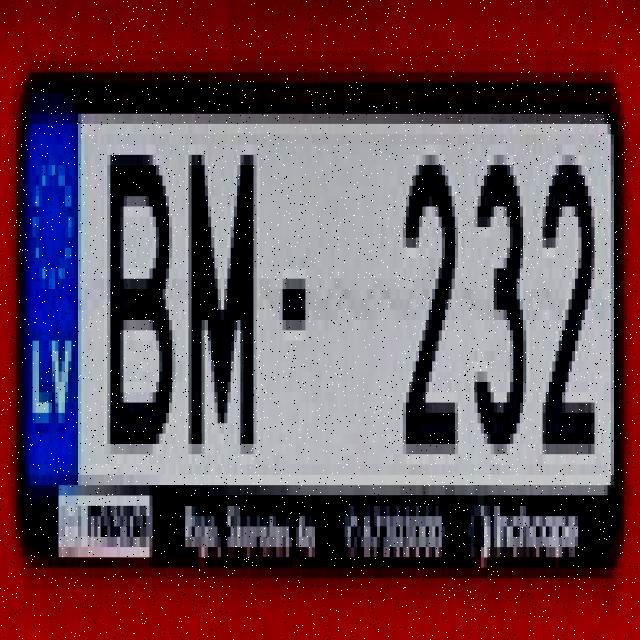licenseplate: (13, 37, 635, 615)
